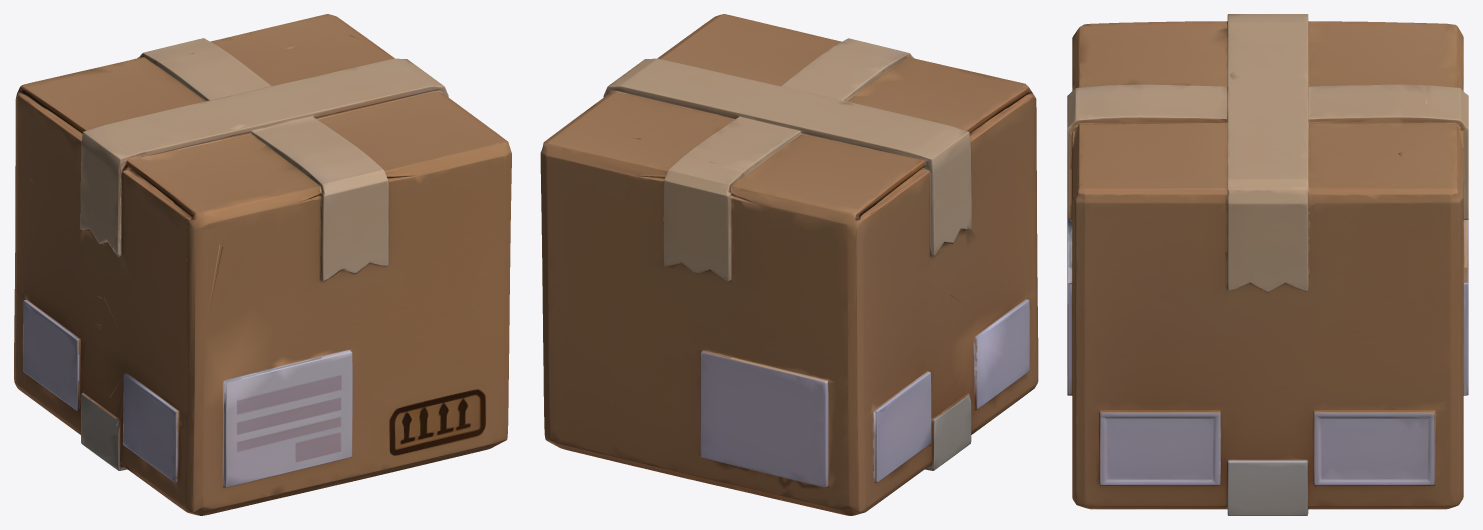
File: CargoBoxSmall.fbx
3 views of the same model, side by side, from view 1: azimuth 30°, elevation 25°; view 2: azimuth 150°, elevation 25°; view 3: azimuth 270°, elevation 25° (orthographic). The views are drawn at different scales.
Parts seen in each view (by area): view 1: texture_pbr_v128; view 2: texture_pbr_v128; view 3: texture_pbr_v128.
Boxes of the visible parts, x1,y1,x2,y2 form: texture_pbr_v128: (14, 14, 511, 515); texture_pbr_v128: (540, 14, 1038, 515); texture_pbr_v128: (1067, 14, 1468, 515).
Size of the model in its own units: 75.58 by 69.11 by 74.26.
Materials: 1 (1 with a texture image).
